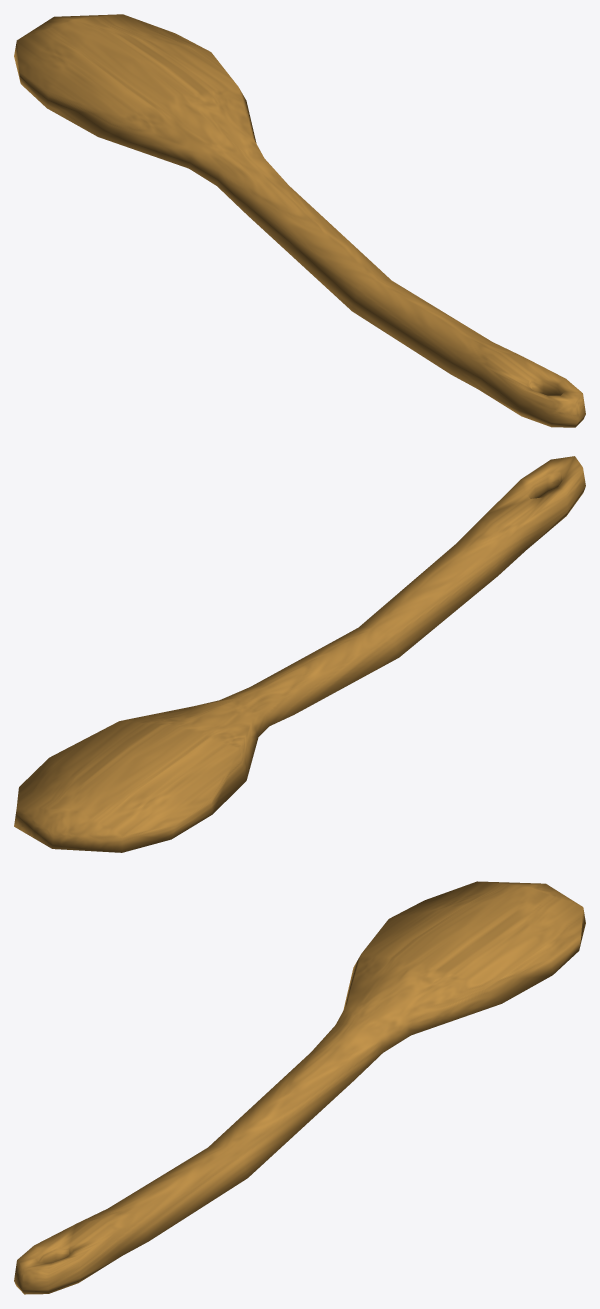
The model's file is ustensils3.glb.
3 views of the same model, one above another, from view 1: azimuth 30°, elevation 25°; view 2: azimuth 150°, elevation 25°; view 3: azimuth 330°, elevation 25° (orthographic).
Parts seen in each view (by area): view 1: ustensils3; view 2: ustensils3; view 3: ustensils3.
Boxes of the visible parts, x1=… form: ustensils3: x1=14, y1=14, x2=585, y2=427; ustensils3: x1=14, y1=456, x2=585, y2=852; ustensils3: x1=14, y1=881, x2=585, y2=1294.
Size of the model in its own units: 0.4596 by 0.2206 by 2.53.
Materials: 1 (1 with a texture image).
